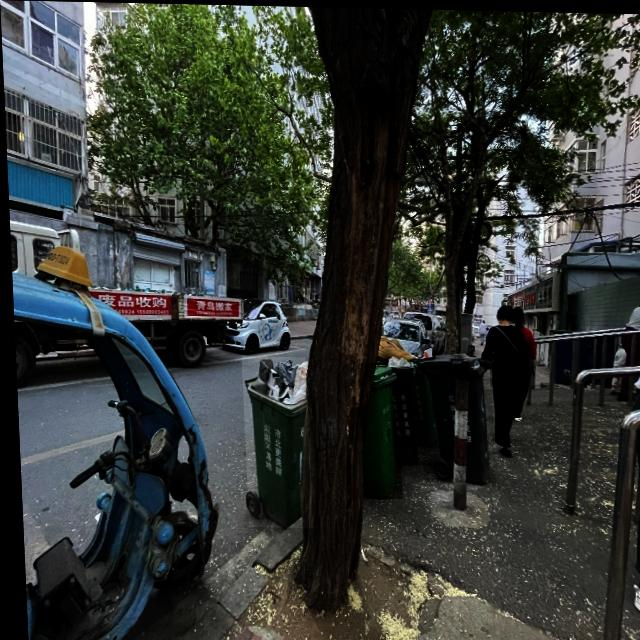garbage_bin: (415, 349, 492, 481), (354, 361, 398, 498)
overflow: (239, 355, 309, 527), (373, 353, 415, 463), (405, 344, 435, 443)
